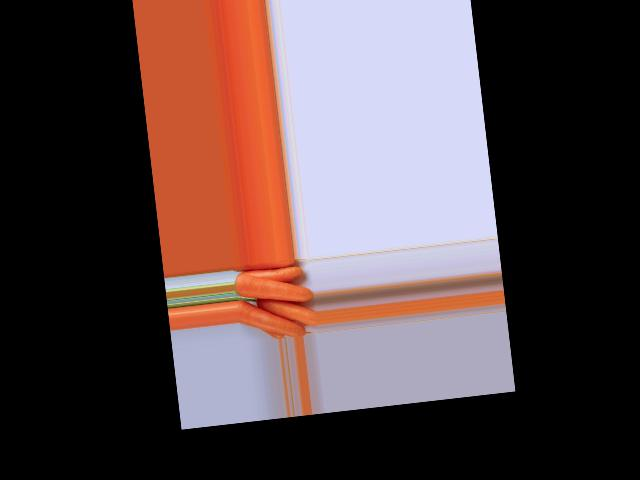carrot: (235, 260, 305, 287)
